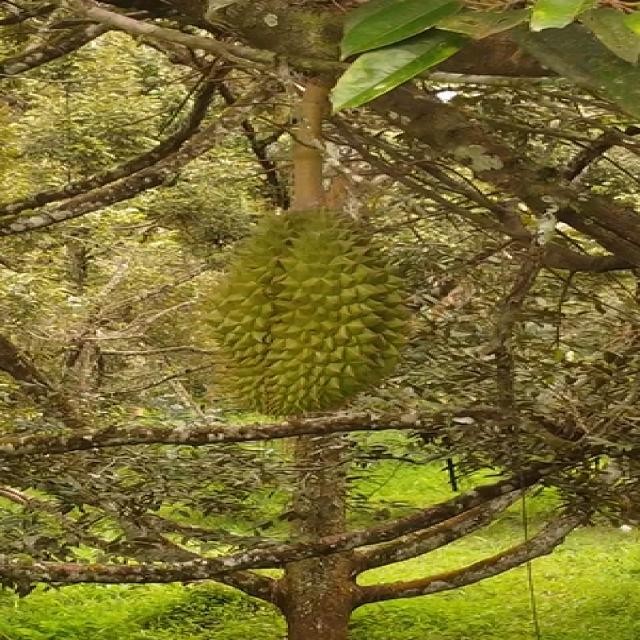immature: (207, 201, 409, 415)
